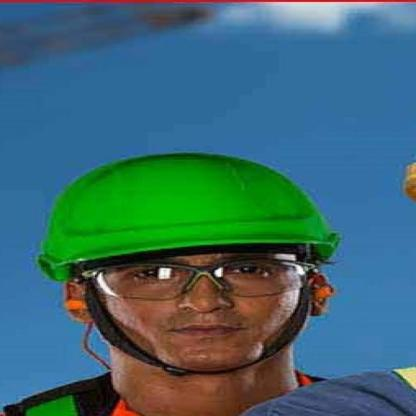capacete: (37, 150, 337, 260)
oculos: (78, 255, 322, 302)
